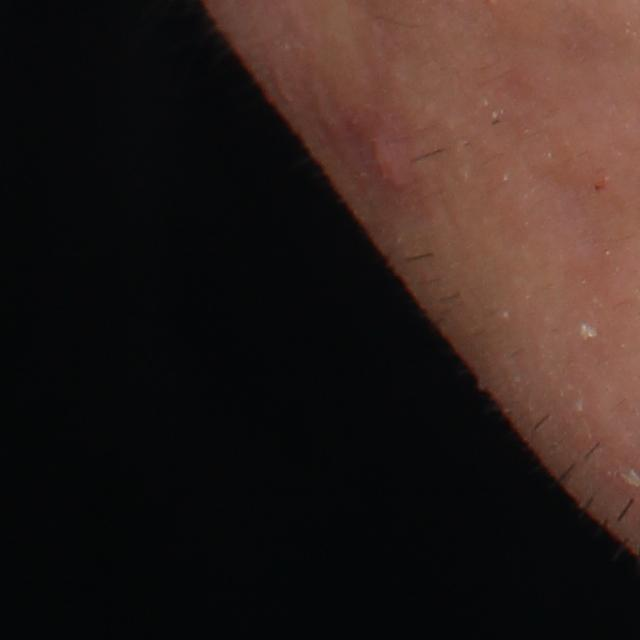other: (575, 323, 601, 344)
papule: (359, 127, 416, 208)
